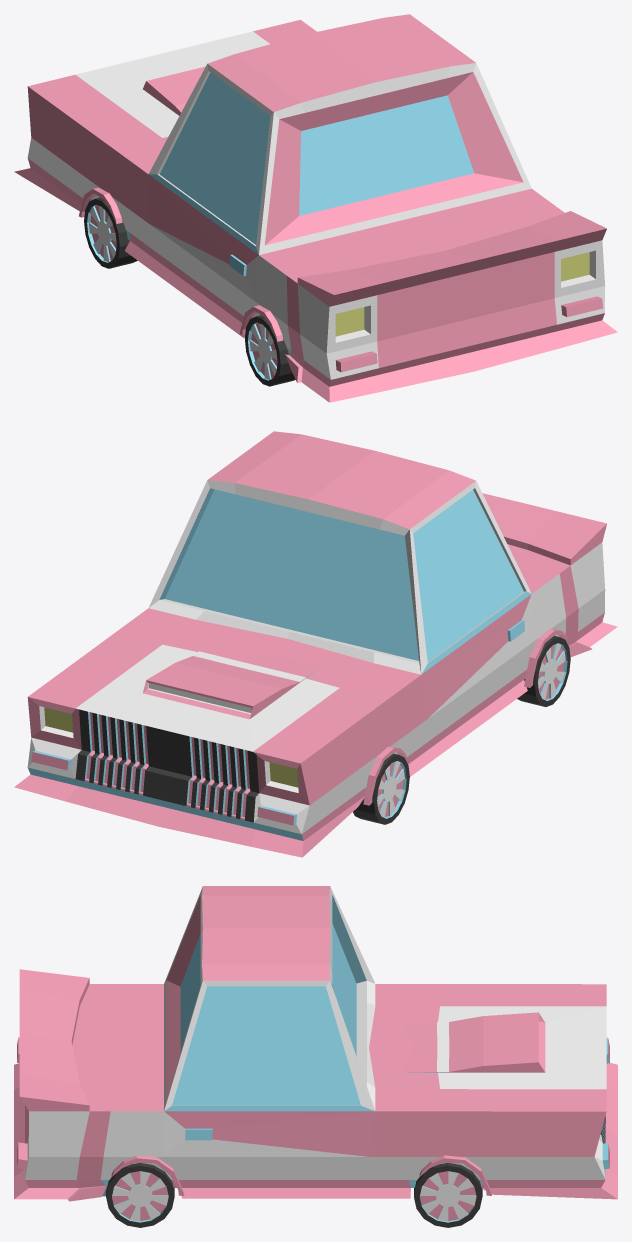
Rendered from car_pink.fbx.
3 views of the same model, one above another, from view 1: azimuth 30°, elevation 25°; view 2: azimuth 150°, elevation 25°; view 3: azimuth 270°, elevation 25° (orthographic). The views are drawn at different scales.
Parts seen in each view (by area): view 1: car; view 2: car; view 3: car.
Boxes of the visible parts, left/top/right/bottom form: car: left=14, top=14, right=617, bottom=402; car: left=14, top=431, right=617, bottom=857; car: left=14, top=886, right=617, bottom=1227.
Bounding box in the file's own units: 143 × 112 × 264.
